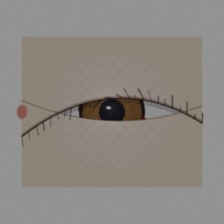hemorrhage_spot: (61, 82, 162, 163)
